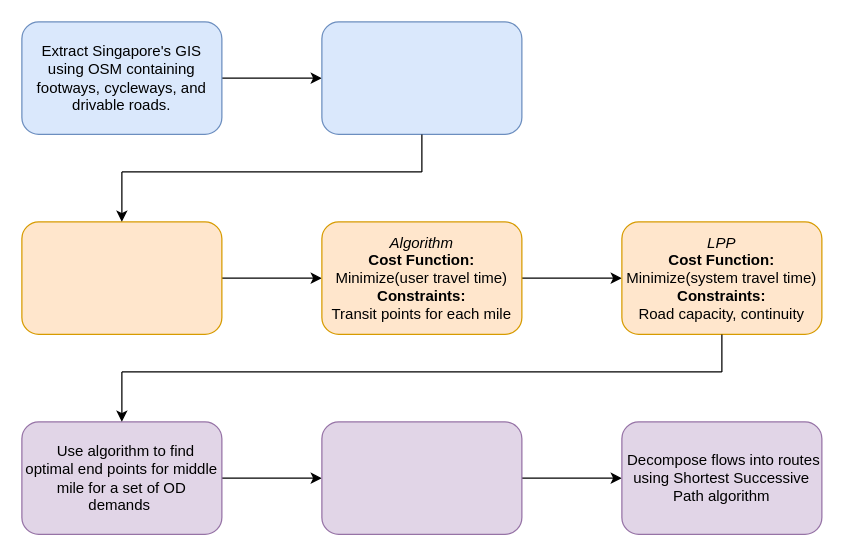
Some shapes in this 844 by 556 pixel diagram are drawn without their labels. Each missing label, with the centre of its shape:
"Calculate congestion for the drive-only network using speed bands" goes at (x=121, y=277).
"Collect Traffic Speed Band dataset showing real-time speeds at every road" goes at (x=421, y=77).
"Solve LPP using Frank Wolfe to get system-optimal flows for all OD demands" goes at (x=421, y=477).
